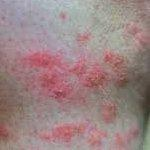Ants: (19, 38, 85, 108), (67, 50, 113, 97), (101, 46, 134, 87), (39, 123, 79, 143), (100, 100, 120, 123), (87, 127, 104, 148), (114, 132, 127, 149), (76, 32, 90, 45), (0, 122, 10, 140)
